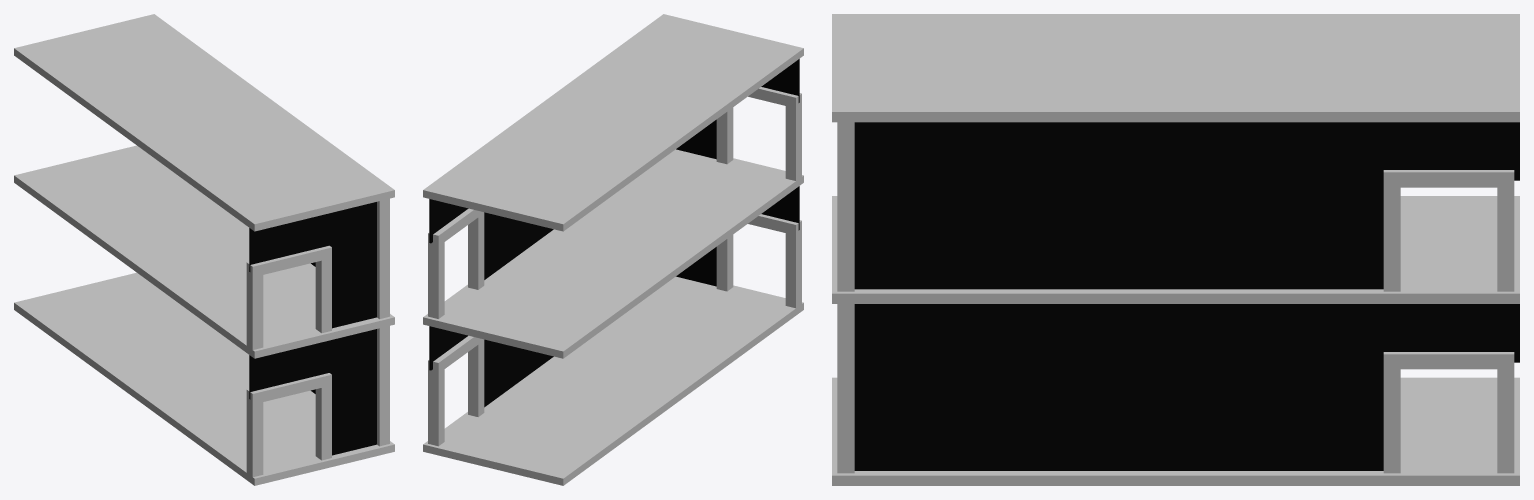
File: storageRoom.fbx
The picture shows the model from 3 angles, left to right: view 1: azimuth 30°, elevation 25°; view 2: azimuth 150°, elevation 25°; view 3: azimuth 270°, elevation 25°; orthographic projection. The views are drawn at different scales.
Parts seen in each view (by area): view 1: detailInHallway2:storageRoom1:Cube_11_3, detailInHallway2:storageRoom1:Cube_11_1, detailInHallway2:storageRoom1:Cube_11_2, storageRoom1:Cube_9_ (×2), detailInHallway2:storageRoom1:Cube_10_4, storageRoom1:Cube_10_4, storageRoom1:Cube_7_1; view 2: detailInHallway2:storageRoom1:Cube_11_3, detailInHallway2:storageRoom1:Cube_11_2, detailInHallway2:storageRoom1:Cube_11_1, storageRoom1:Cube_6_1 (×2), storageRoom1:Cube_9_ (×2), detailInHallway2:storageRoom1:Cube_10_5, detailInHallway2:storageRoom1:Cube_10_2, storageRoom1:Cube_10_4, detailInHallway2:storageRoom1:Cube_10_4; view 3: storageRoom1:Cube_6_1 (×2), detailInHallway2:storageRoom1:Cube_11_3, detailInHallway2:storageRoom1:Cube_11_1, detailInHallway2:storageRoom1:Cube_11_2, storageRoom1:Cube_7_1, detailInHallway2:storageRoom1:Cube_10_5, detailInHallway2:storageRoom1:Cube_10_2.
Part boxes in pixels (x1,y1,x2,y2): detailInHallway2:storageRoom1:Cube_11_3: (14,14,394,231); detailInHallway2:storageRoom1:Cube_11_1: (14,272,394,485); detailInHallway2:storageRoom1:Cube_11_2: (14,145,394,358); storageRoom1:Cube_9_ (×2): (249,202,376,455); detailInHallway2:storageRoom1:Cube_10_4: (246,245,331,349); storageRoom1:Cube_10_4: (246,373,331,477); storageRoom1:Cube_7_1: (374,185,389,446); detailInHallway2:storageRoom1:Cube_11_3: (423,14,803,231); detailInHallway2:storageRoom1:Cube_11_2: (423,149,803,358); detailInHallway2:storageRoom1:Cube_11_1: (423,276,803,485); storageRoom1:Cube_6_1 (×2): (429,199,553,407); storageRoom1:Cube_9_ (×2): (676,59,799,286); detailInHallway2:storageRoom1:Cube_10_5: (428,208,484,318); detailInHallway2:storageRoom1:Cube_10_2: (428,335,484,446); storageRoom1:Cube_10_4: (716,214,801,308); detailInHallway2:storageRoom1:Cube_10_4: (716,87,801,180); storageRoom1:Cube_6_1 (×2): (854,122,1519,470); detailInHallway2:storageRoom1:Cube_11_3: (832,14,1519,122); detailInHallway2:storageRoom1:Cube_11_1: (832,377,1519,485); detailInHallway2:storageRoom1:Cube_11_2: (832,196,1519,303); storageRoom1:Cube_7_1: (837,102,854,473); detailInHallway2:storageRoom1:Cube_10_5: (1383,170,1514,291); detailInHallway2:storageRoom1:Cube_10_2: (1383,352,1514,473).
Bounding box in the file's own units: 4.04 × 7.2 × 12.
